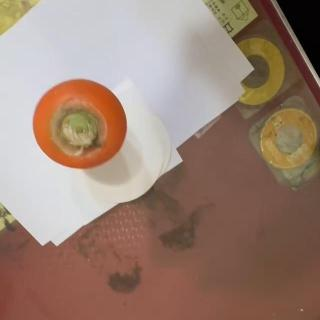carrot: (31, 79, 127, 171)
